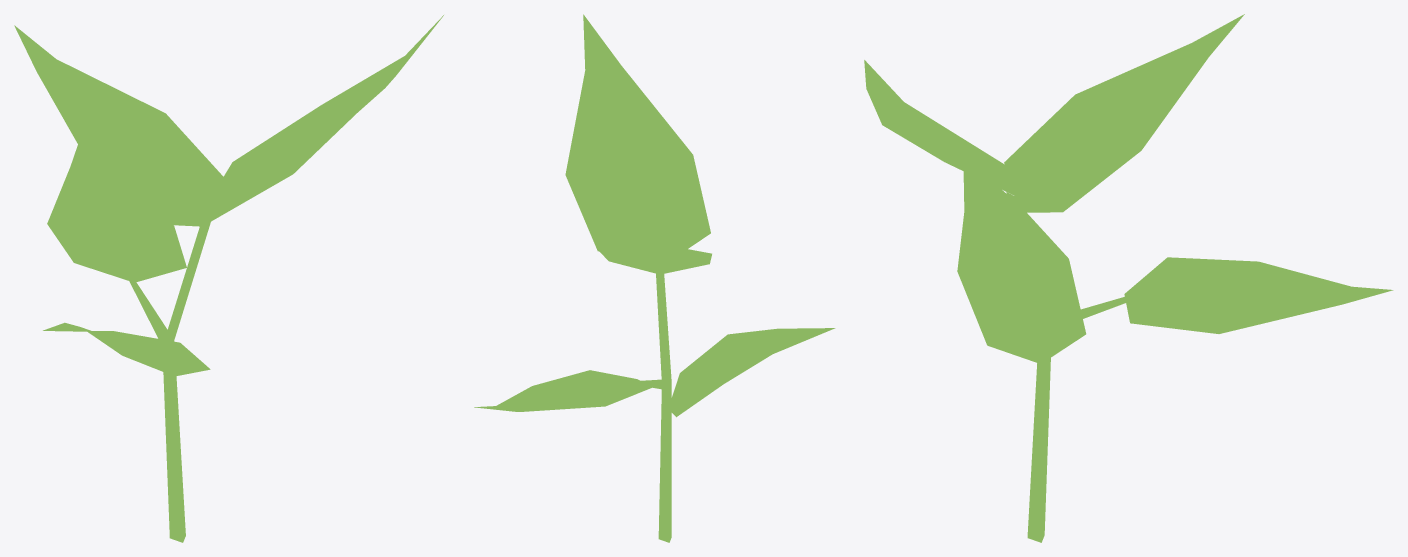
The model's file is Plant_f_TwoS_05.fbx.
The picture shows the model from 3 angles, left to right: view 1: azimuth 30°, elevation 25°; view 2: azimuth 150°, elevation 25°; view 3: azimuth 270°, elevation 25°; orthographic projection. The views are drawn at different scales.
Visible parts, largest first — view 1: Plant_f_TwoS_05; view 2: Plant_f_TwoS_05; view 3: Plant_f_TwoS_05.
Boxes of the visible parts, box(x1,y1,x2,y2) form: Plant_f_TwoS_05: box(14, 15, 443, 542); Plant_f_TwoS_05: box(474, 14, 835, 542); Plant_f_TwoS_05: box(864, 14, 1393, 542).
Size of the model in its own units: 0.4556 by 0.6603 by 0.5514.
